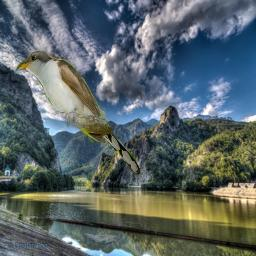Cuckoo: (13, 48, 143, 176)
